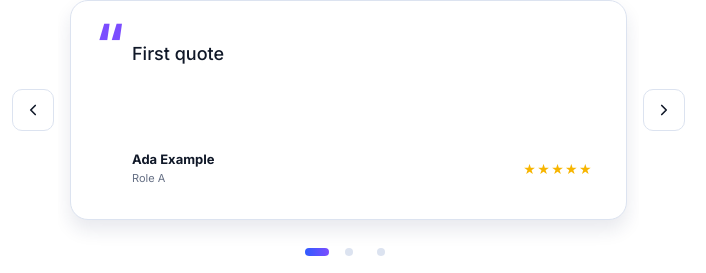
Scenario: with reduced motion the card changes instantly, with no outgoing copy and no animation classes
Click the button named "Next testimonial".
click(664, 110)  # box [643,89,685,131]
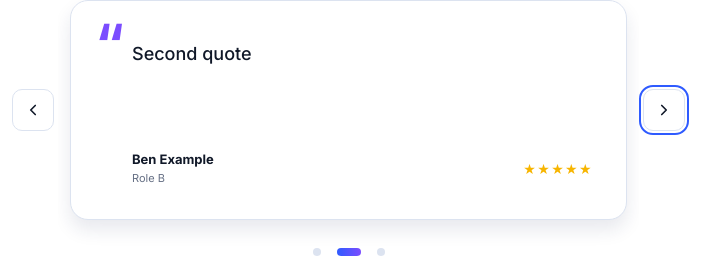
Check: the element showing "“ Second quote Ben Example Role B ★★★★★" is shown
